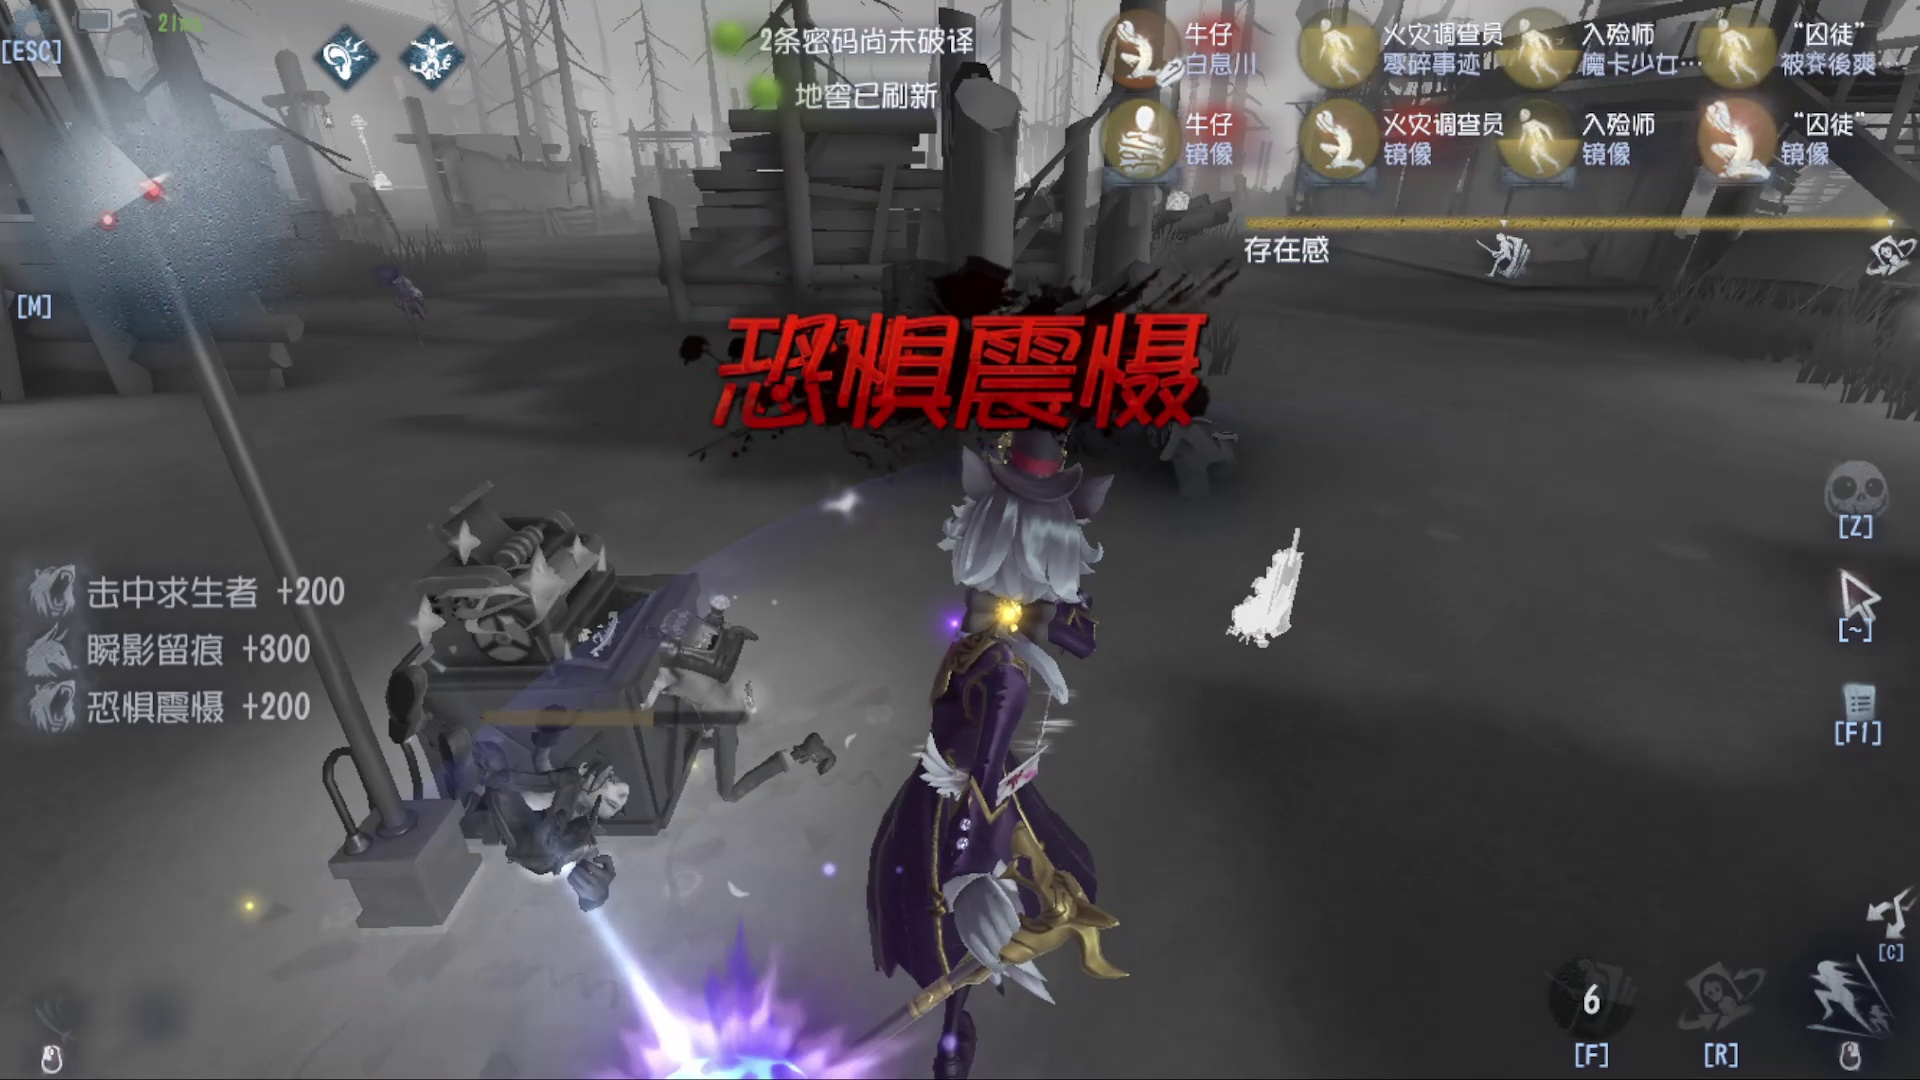密码机: (243, 431, 803, 916), (334, 95, 410, 206)
求生者: (633, 593, 855, 814), (435, 731, 655, 910), (342, 248, 467, 361)
狂欢之椅: (1207, 512, 1340, 703)
